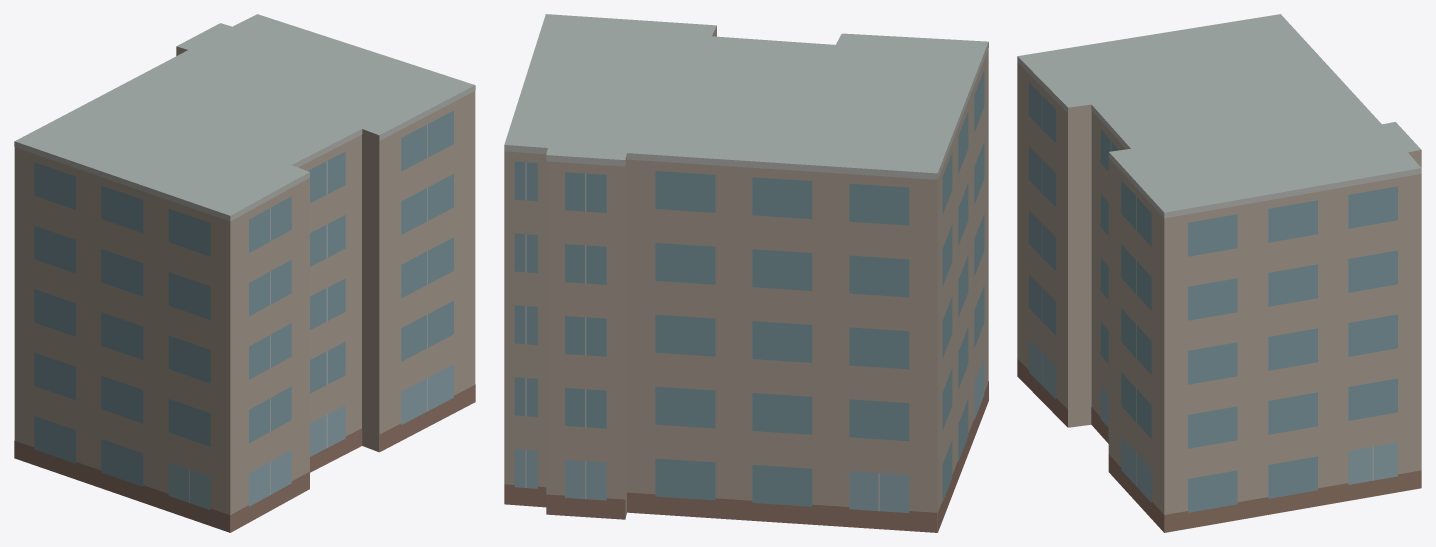
Rendered from survey-upis-32857756.glb.
The picture shows the model from 3 angles, left to right: view 1: azimuth 30°, elevation 25°; view 2: azimuth 150°, elevation 25°; view 3: azimuth 270°, elevation 25°; orthographic projection. The views are drawn at different scales.
Parts seen in each view (by area): view 1: survey-upis-32857756.tmp; view 2: survey-upis-32857756.tmp; view 3: survey-upis-32857756.tmp.
Boxes of the visible parts, x1,y1,x2,y2 form: survey-upis-32857756.tmp: (14,14,475,532); survey-upis-32857756.tmp: (504,14,988,532); survey-upis-32857756.tmp: (1017,14,1421,532).
Bounding box in the file's own units: 18.18 × 13.65 × 15.63.
